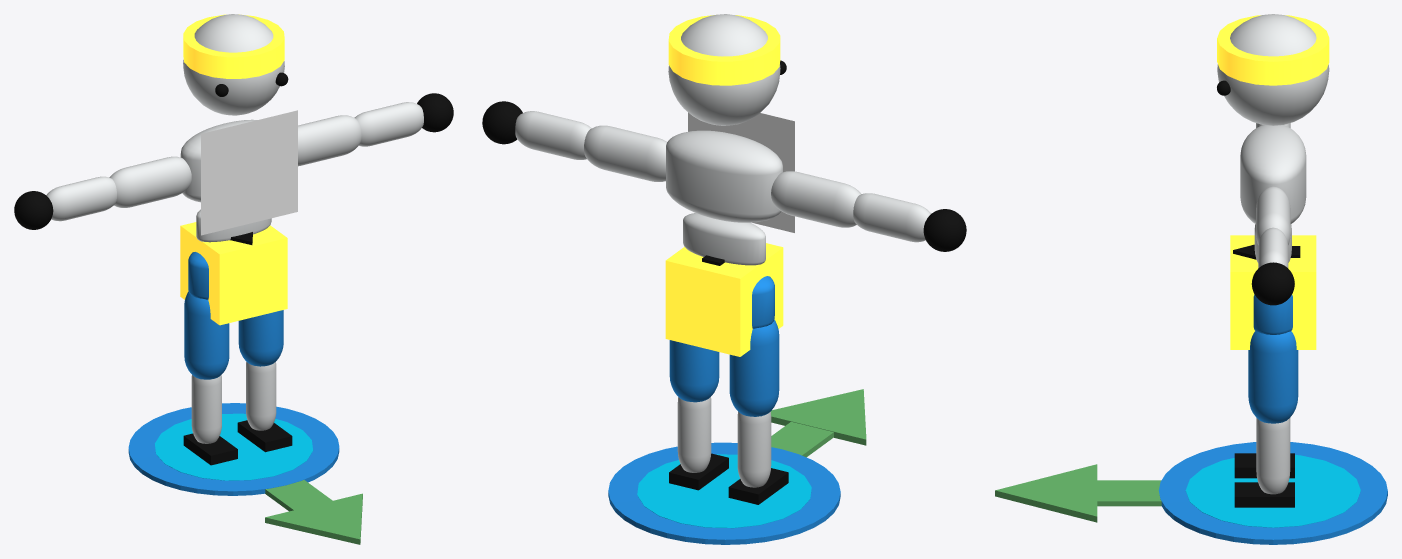
Rendered from WalkerRagdoll.fbx.
3 renders of one model, left to right at view 1: azimuth 30°, elevation 25°; view 2: azimuth 150°, elevation 25°; view 3: azimuth 270°, elevation 25°, orthographic. The views are drawn at different scales.
Parts seen in each view (by area): view 1: Logo, Cube, symbol_circle, DirectionIndicator, headMesh, headband, thighRMesh, upper_arm_RMesh, symbol_tri, upper_arm_LMesh, lower_arm_RMesh, lower_arm_LMesh (+11 smaller); view 2: Cube, chestsMesh, symbol_circle, DirectionIndicator, headMesh, headband, thighRMesh, upper_arm_RMesh, upper_arm_LMesh, spineMesh, symbol_tri, Logo (+11 smaller); view 3: symbol_circle, DirectionIndicator, headMesh, Cube, chestsMesh, thighLMesh, headband, symbol_tri, shinLMesh, Symbol_Triangle, upper_arm_LMesh, hand_LMesh (+4 smaller).
Part boxes in pixels (x1=…): Logo: x1=201, y1=110, x2=297, y2=235; Cube: x1=180, y1=222, x2=287, y2=325; symbol_circle: x1=128, y1=403, x2=339, y2=495; DirectionIndicator: x1=155, y1=413, x2=313, y2=480; headMesh: x1=183, y1=14, x2=284, y2=115; headband: x1=183, y1=14, x2=284, y2=78; thighRMesh: x1=184, y1=291, x2=229, y2=379; upper_arm_RMesh: x1=109, y1=156, x2=191, y2=207; symbol_tri: x1=265, y1=493, x2=362, y2=544; upper_arm_LMesh: x1=298, y1=115, x2=361, y2=166; lower_arm_RMesh: x1=46, y1=176, x2=116, y2=221; lower_arm_LMesh: x1=354, y1=102, x2=423, y2=146; Cube: x1=665, y1=243, x2=783, y2=356; chestsMesh: x1=666, y1=130, x2=782, y2=222; symbol_circle: x1=608, y1=442, x2=840, y2=544; DirectionIndicator: x1=637, y1=454, x2=811, y2=528; headMesh: x1=668, y1=14, x2=780, y2=125; headband: x1=668, y1=15, x2=780, y2=85; thighRMesh: x1=729, y1=319, x2=779, y2=416; upper_arm_RMesh: x1=771, y1=171, x2=861, y2=227; upper_arm_LMesh: x1=584, y1=125, x2=666, y2=181; spineMesh: x1=683, y1=213, x2=765, y2=265; symbol_tri: x1=770, y1=389, x2=866, y2=445; Logo: x1=688, y1=112, x2=794, y2=232; symbol_circle: x1=1158, y1=442, x2=1387, y2=544; DirectionIndicator: x1=1185, y1=455, x2=1360, y2=527; headMesh: x1=1217, y1=14, x2=1329, y2=125; Cube: x1=1230, y1=235, x2=1316, y2=349; chestsMesh: x1=1240, y1=125, x2=1306, y2=224; thighLMesh: x1=1248, y1=331, x2=1298, y2=423; headband: x1=1217, y1=15, x2=1329, y2=85; symbol_tri: x1=995, y1=464, x2=1097, y2=522; shinLMesh: x1=1256, y1=418, x2=1290, y2=494; Symbol_Triangle: x1=1097, y1=480, x2=1161, y2=506; upper_arm_LMesh: x1=1256, y1=186, x2=1290, y2=245; hand_LMesh: x1=1251, y1=262, x2=1294, y2=305.
Size of the model in its own units: 640 by 611 by 455.
